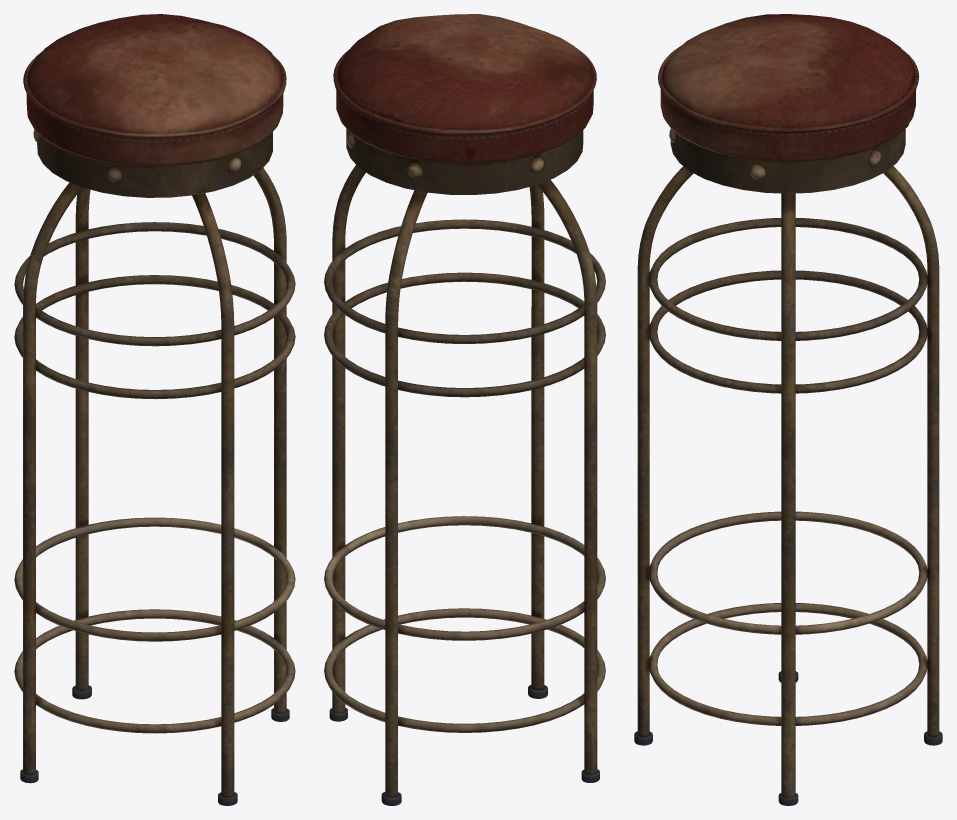
File: stool.glb
3 views of the same model, side by side, from view 1: azimuth 30°, elevation 25°; view 2: azimuth 150°, elevation 25°; view 3: azimuth 270°, elevation 25° (orthographic).
Parts seen in each view (by area): view 1: metal_stool_01; view 2: metal_stool_01; view 3: metal_stool_01.
Part boxes in pixels (x1,y1,x2,y2): metal_stool_01: (14,14,295,805); metal_stool_01: (324,14,605,805); metal_stool_01: (634,14,942,805).
Bounding box in the file's own units: 0.352 × 0.8828 × 0.3546.
1 material, 1 textured.
